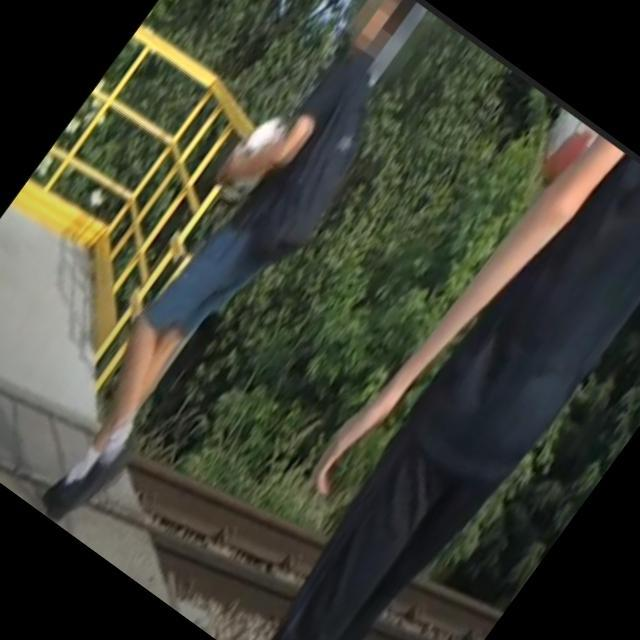person: (0, 0, 463, 546), (196, 109, 640, 640)
